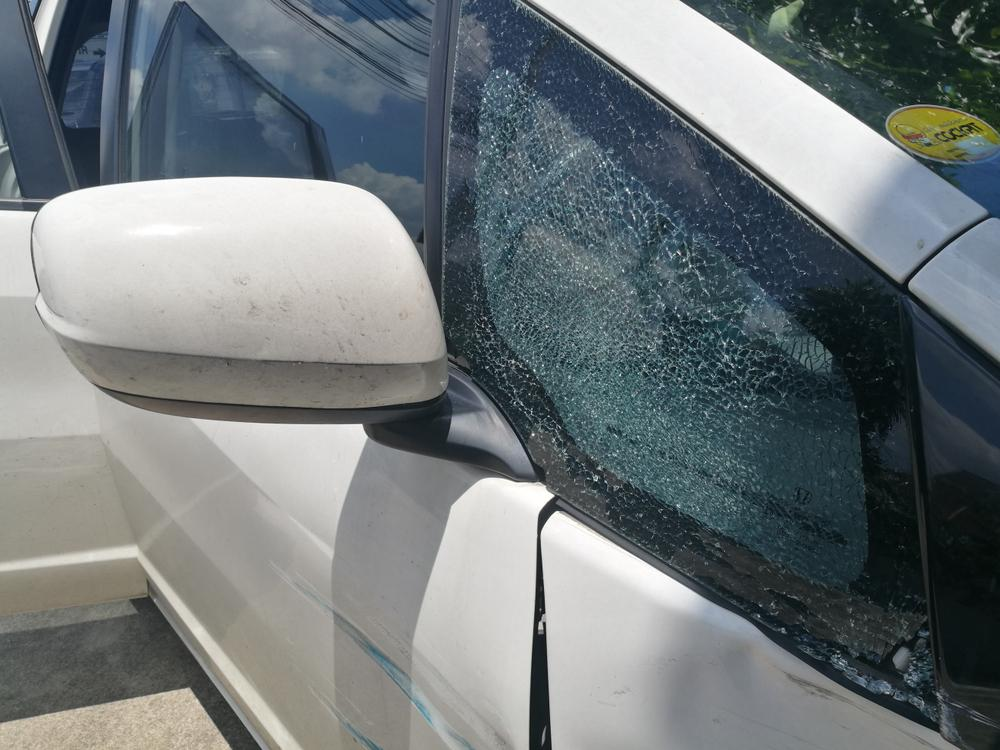glass shatter: (441, 0, 937, 720)
scratch: (259, 516, 520, 750), (783, 664, 954, 750)
